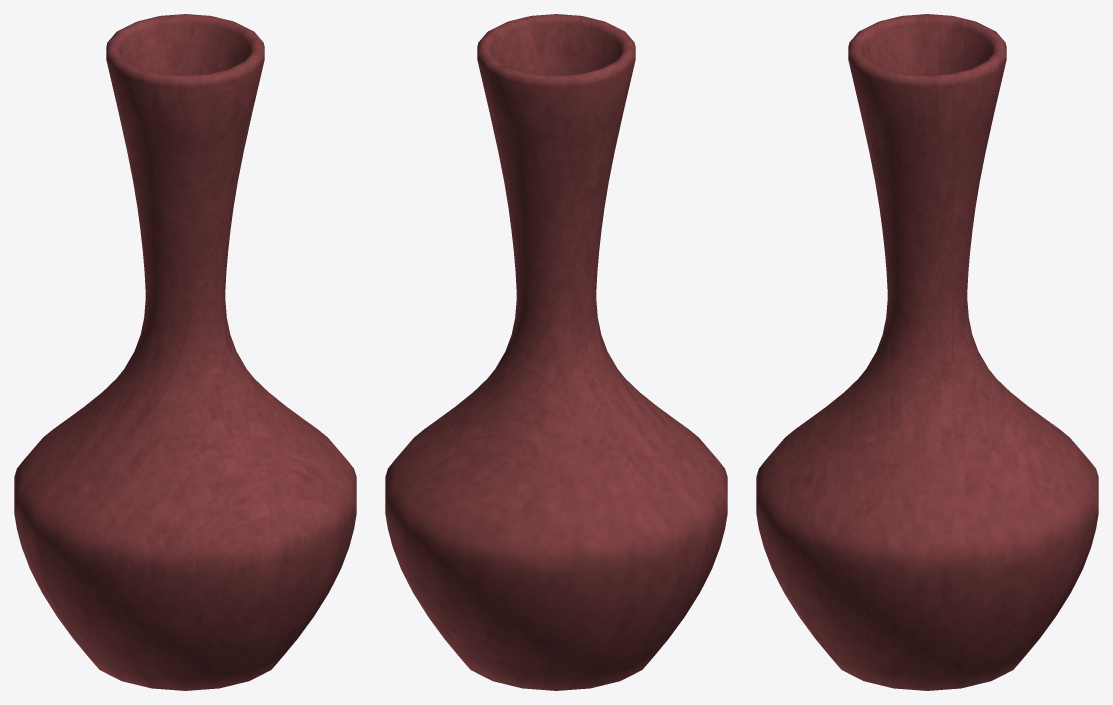
The model's file is Vase-2-red.glb.
3 views of the same model, side by side, from view 1: azimuth 30°, elevation 25°; view 2: azimuth 150°, elevation 25°; view 3: azimuth 270°, elevation 25° (orthographic).
Parts seen in each view (by area): view 1: Vase_2.002; view 2: Vase_2.002; view 3: Vase_2.002.
Part boxes in pixels (x1,y1,x2,y2): Vase_2.002: [14, 14, 356, 690]; Vase_2.002: [385, 14, 727, 690]; Vase_2.002: [756, 14, 1098, 690].
Bounding box in the file's own units: 0.4607 × 0.8907 × 0.4537.
1 material, 1 textured.
